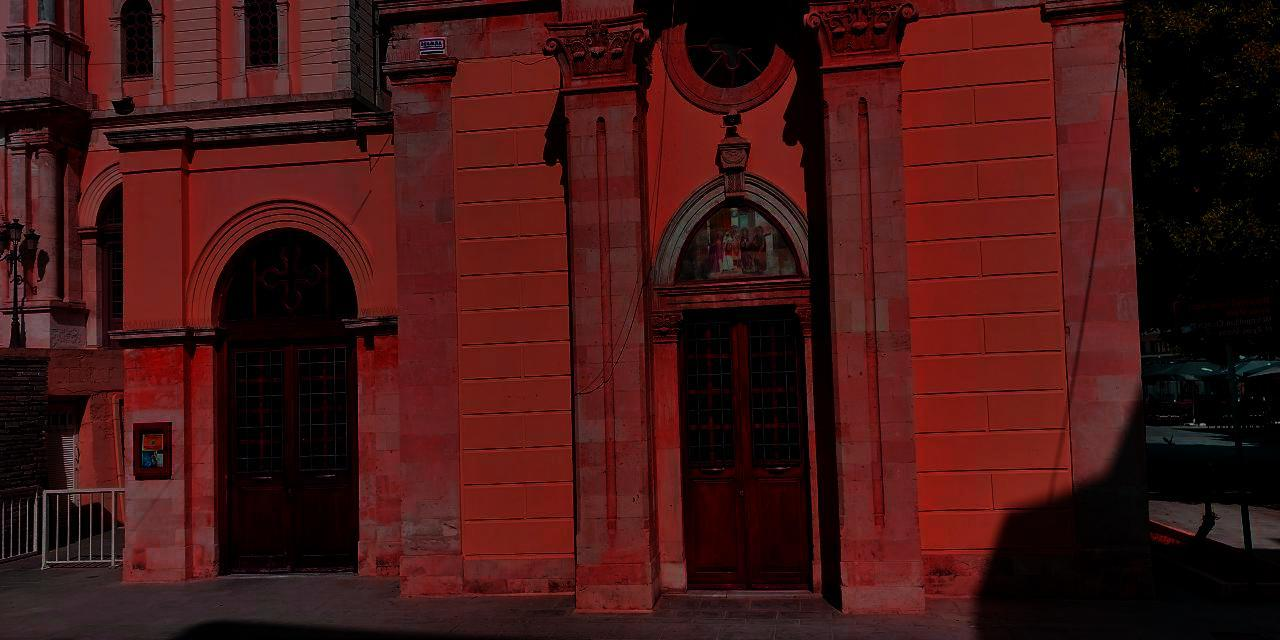Agios Minas: (97, 1, 1156, 604)
